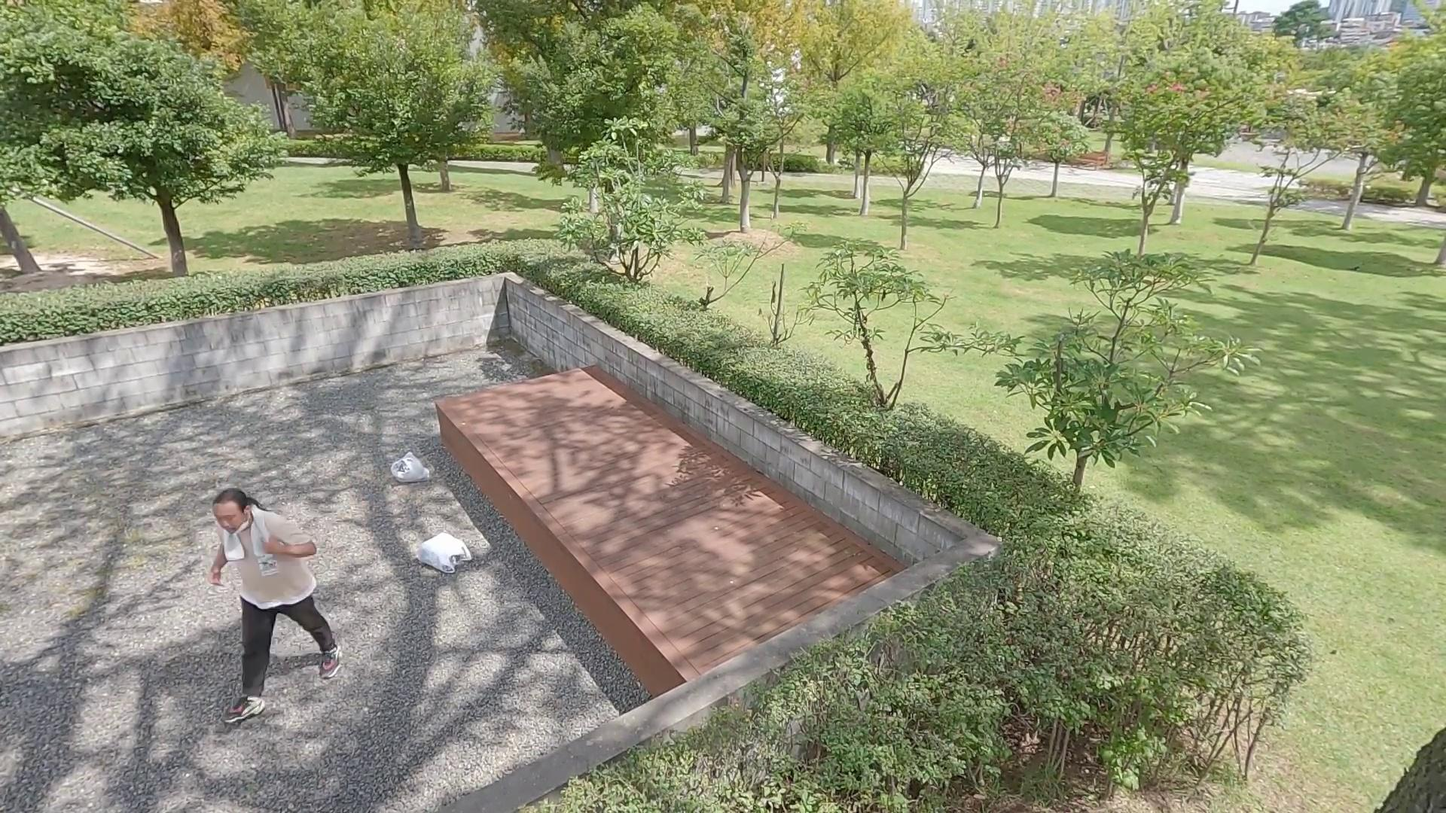person: (205, 481, 347, 731)
trash: (404, 524, 477, 587), (379, 448, 435, 491)
